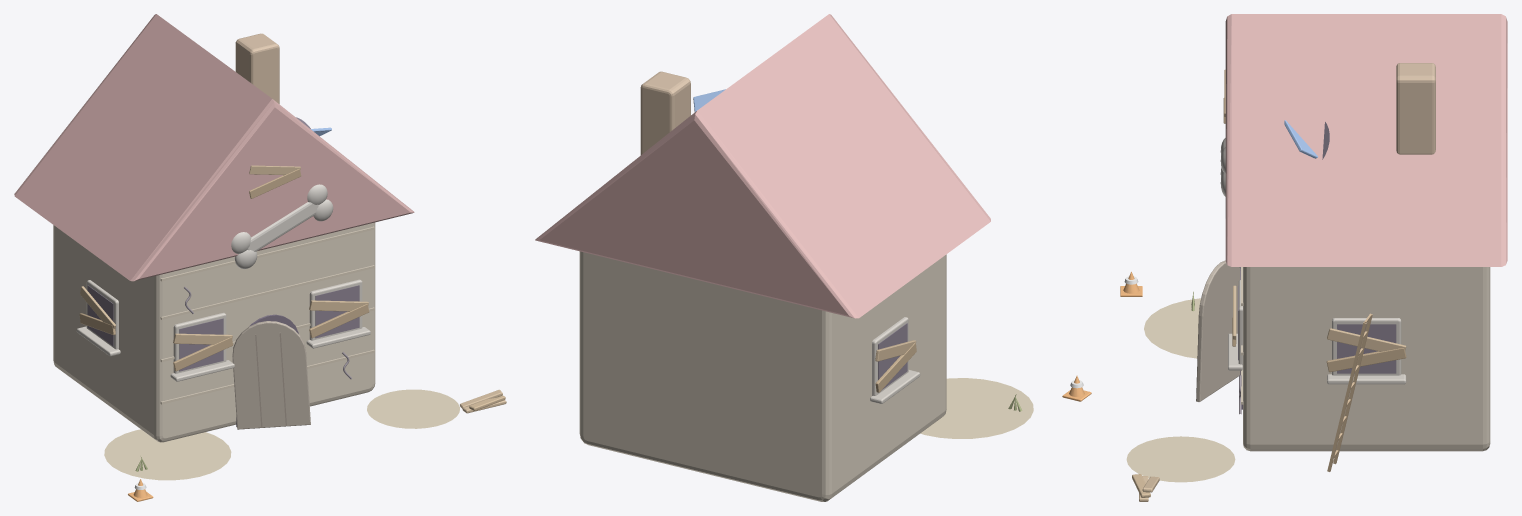
The model's file is building_pets_L02.glb.
3 views of the same model, side by side, from view 1: azimuth 30°, elevation 25°; view 2: azimuth 150°, elevation 25°; view 3: azimuth 270°, elevation 25° (orthographic). The views are drawn at different scales.
Visible parts, largest first — view 1: Body, pets_L2; view 2: Body, pets_L2; view 3: Body, pets_L2.
Part boxes in pixels (bbox=[...]): Body: bbox=[14, 14, 414, 442]; pets_L2: bbox=[104, 389, 506, 501]; Body: bbox=[535, 14, 990, 501]; pets_L2: bbox=[920, 375, 1091, 438]; Body: bbox=[1196, 14, 1507, 451]; pets_L2: bbox=[1120, 271, 1372, 501].
Size of the model in its own units: 20.56 by 16.99 by 15.65.
